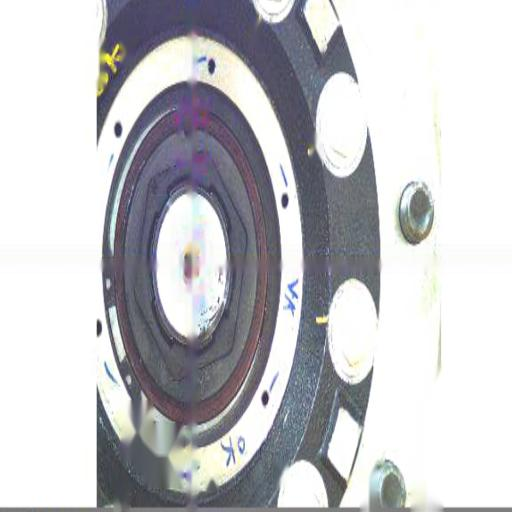center: (180, 254, 198, 280)
notch: (180, 116, 196, 148)
